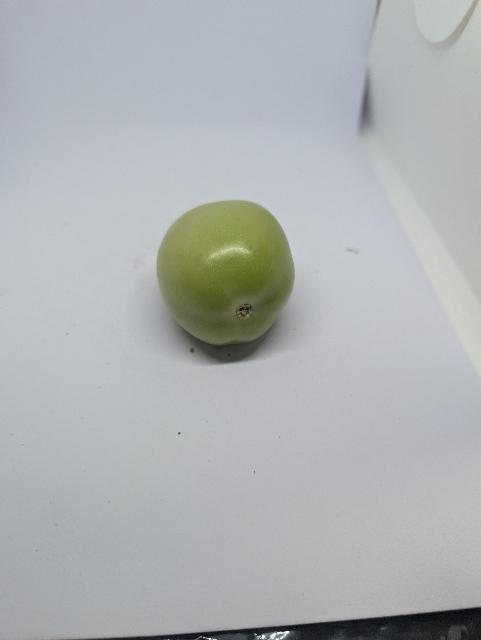green: (154, 197, 298, 349)
